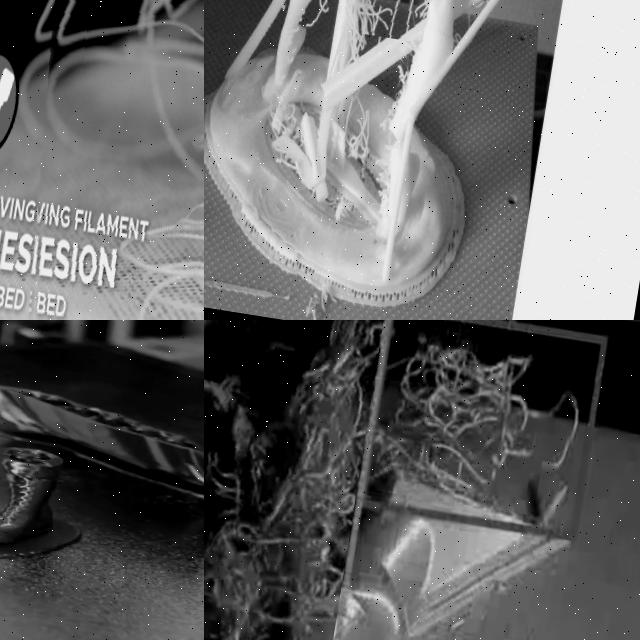spaghetti: (204, 320, 385, 640), (365, 321, 592, 527), (328, 106, 403, 205), (258, 81, 318, 169), (351, 0, 443, 43), (299, 273, 361, 320)
